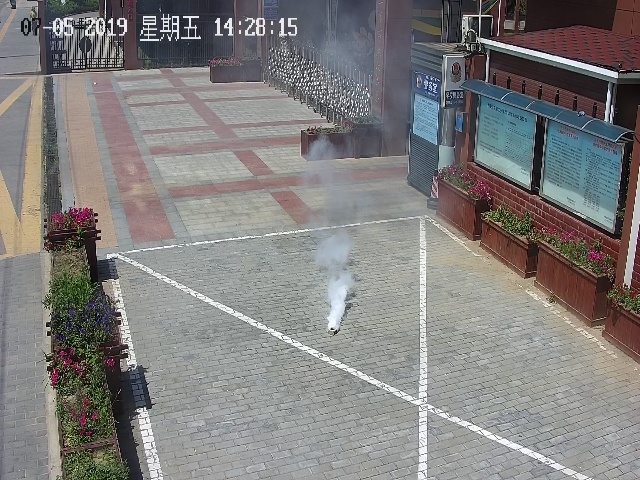yanwu: (313, 229, 361, 327)
